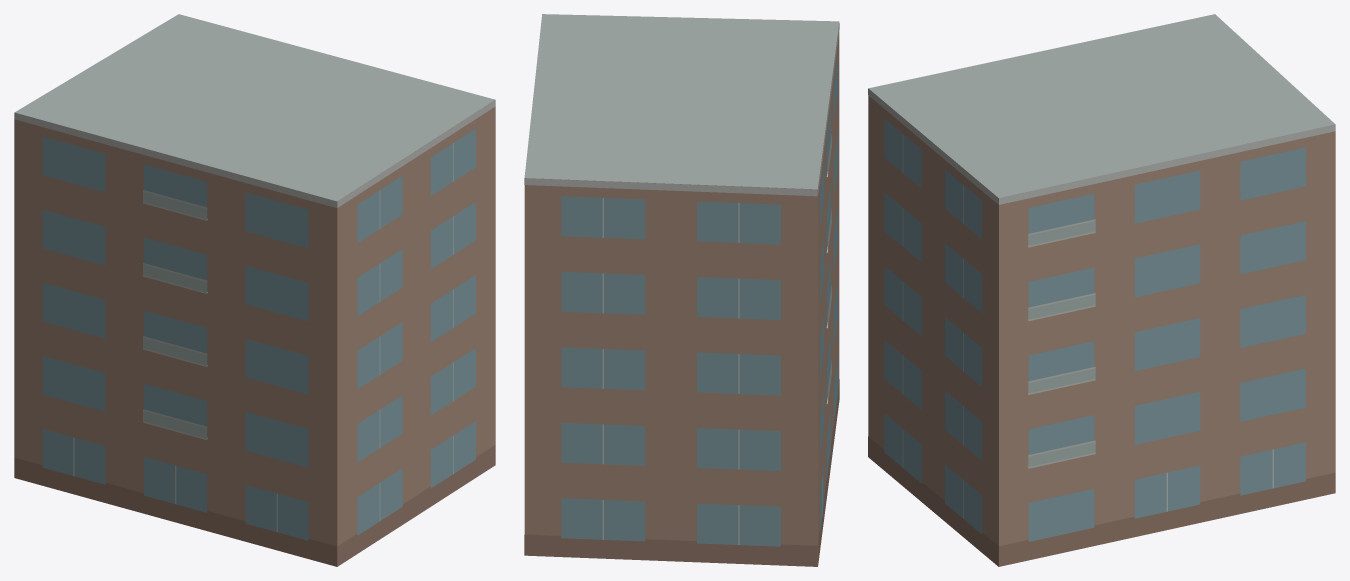
File: survey-upis-32841010.glb
3 views of the same model, side by side, from view 1: azimuth 30°, elevation 25°; view 2: azimuth 150°, elevation 25°; view 3: azimuth 270°, elevation 25° (orthographic). The views are drawn at different scales.
Visible parts, largest first — view 1: survey-upis-32841010.tmp; view 2: survey-upis-32841010.tmp; view 3: survey-upis-32841010.tmp.
Part boxes in pixels (<box>): survey-upis-32841010.tmp: <box>14,14,495,566</box>; survey-upis-32841010.tmp: <box>524,14,839,566</box>; survey-upis-32841010.tmp: <box>868,14,1335,566</box>.
Size of the model in its own units: 14.15 by 13.2 by 15.18.
